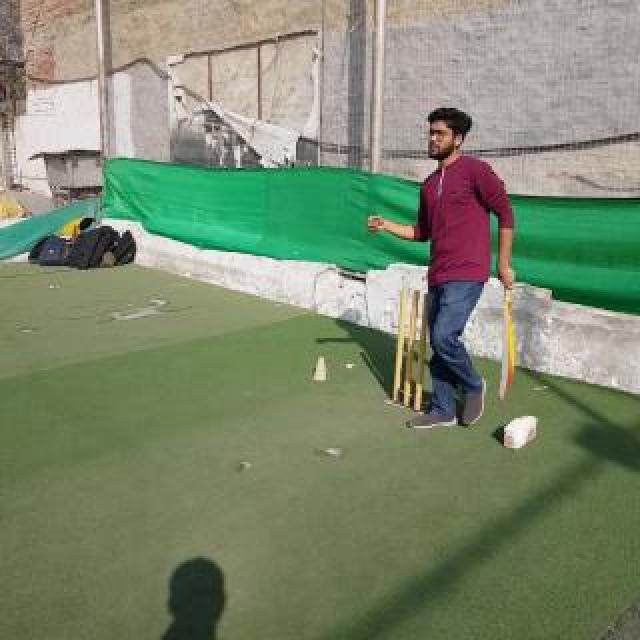bat: (498, 262, 516, 402)
